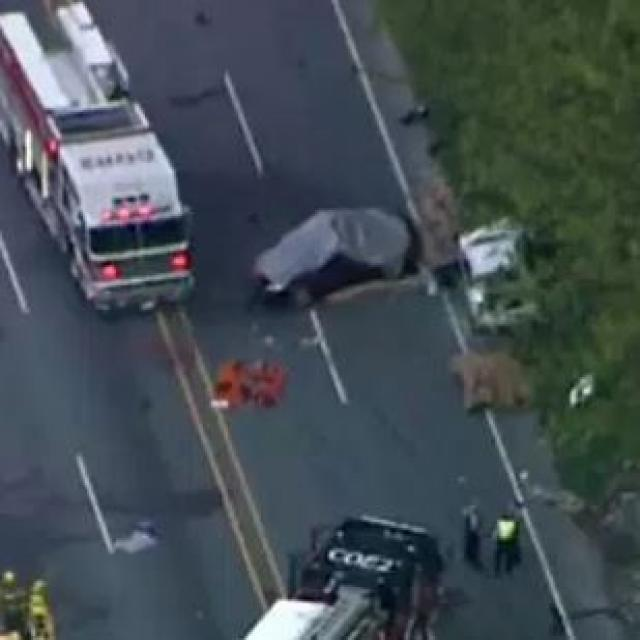traffic_incident: (251, 190, 408, 306)
